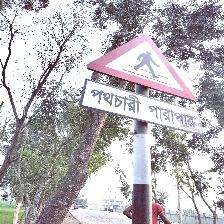Pedestrian-crossing: (80, 32, 202, 133)
